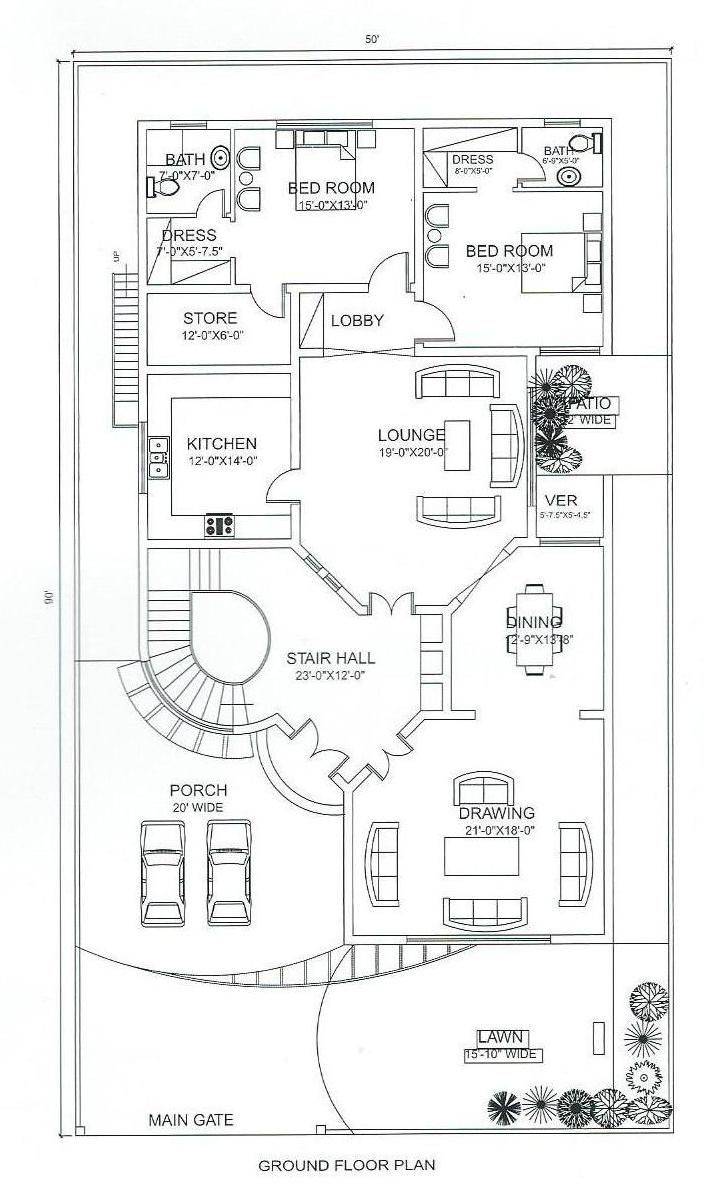door: (355, 240, 417, 291), (352, 733, 412, 784), (295, 720, 350, 773), (359, 573, 421, 618), (239, 275, 297, 322), (417, 293, 464, 347), (259, 458, 304, 506), (506, 151, 550, 182)
window: (266, 109, 375, 131), (170, 109, 210, 131)
